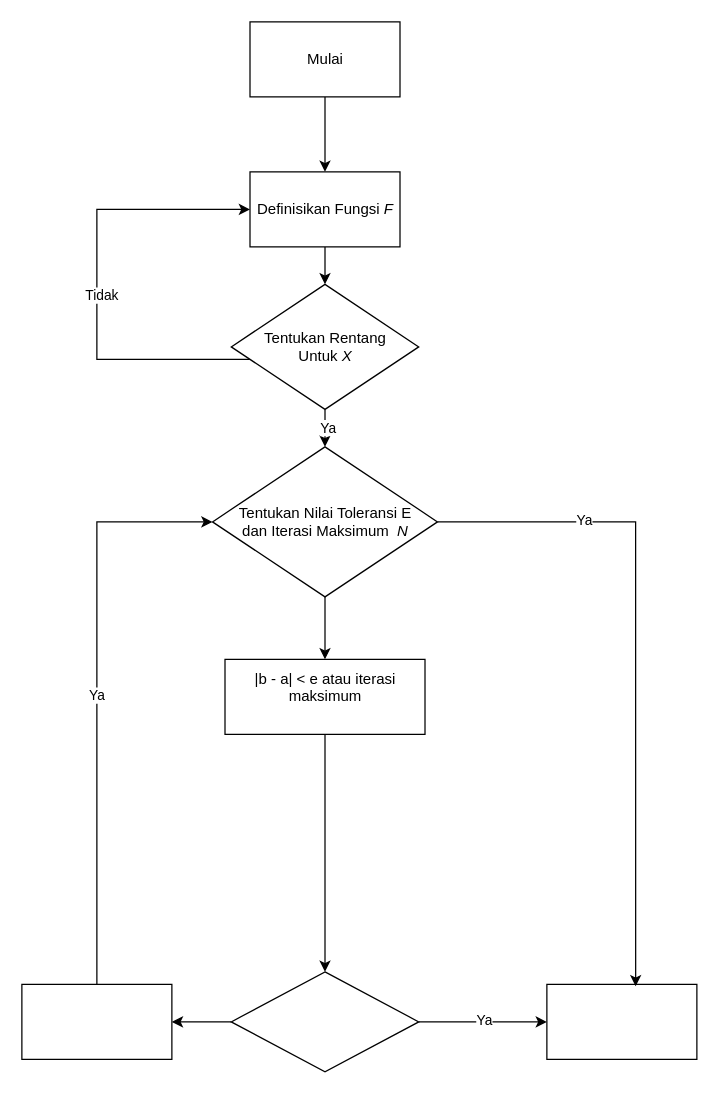
Some shapes in this 719 by 1094 pixel diagram are drawn without their labels. Each missing label, with the centre of its shape:
"f ( x ) ⋅ f ( a ) < 0" belongs at [324,1021].
"Selesai" belongs at [621,1021].
"X = Xm" belongs at [96,1021].
